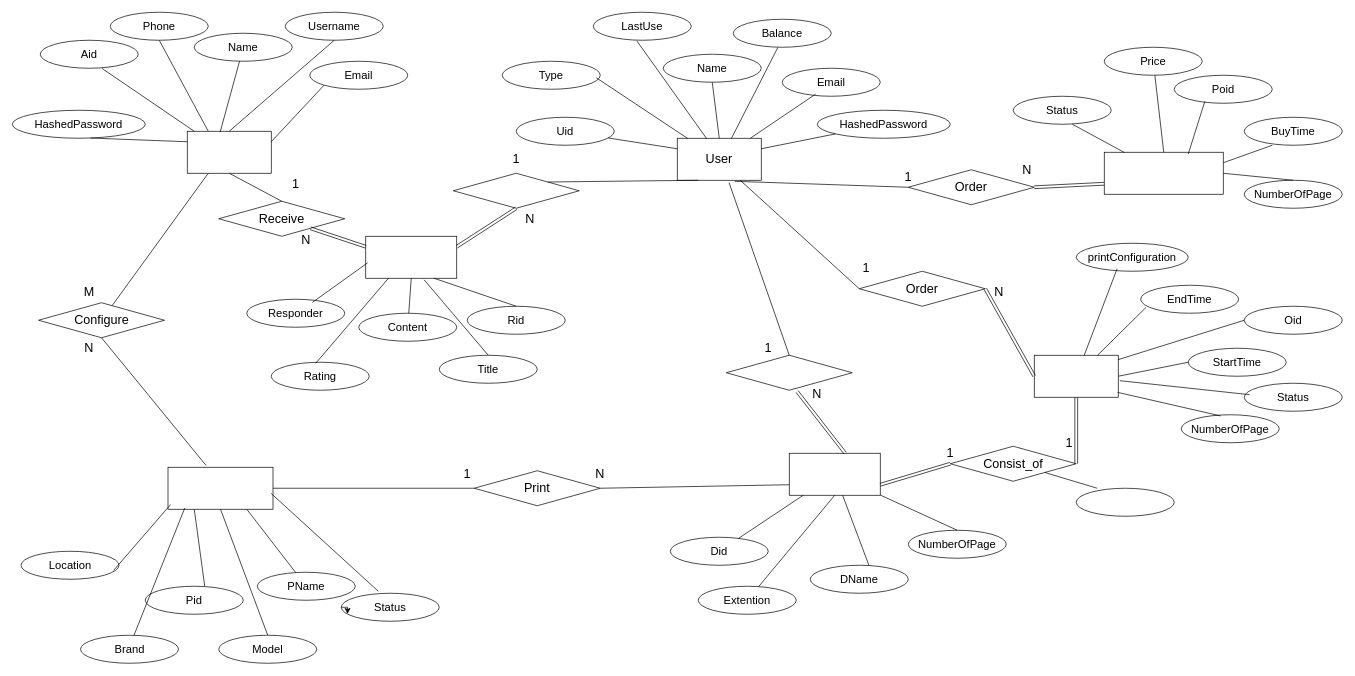
The diagram is 1355 pixels wide and 676 high, and some of its shapes have lost their labels. Each missing label, with the centre of its shape:
"Belong_to" goes at [789,372].
"Document (tài liệu)" goes at [834,474].
"Page Order (đơn mua giấy)" goes at [1163,173].
"Print Order (đơn in)" goes at [1076,376].
"Printer (máy in)" goes at [220,488].
"PrintingPage" goes at [1125,502].
"Respone (Phản hồi)" goes at [411,257].
"Send" goes at [516,190].
"SPSO" goes at [229,152].
